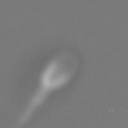normal: (7, 85, 48, 128)
